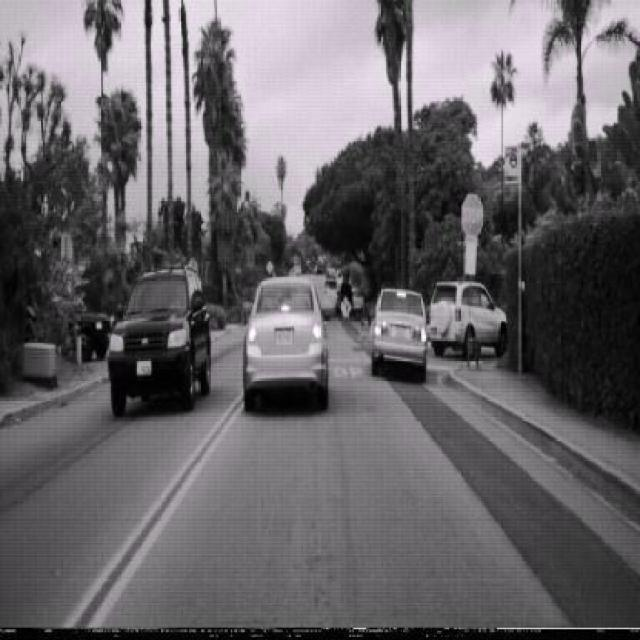stop: (462, 192, 484, 238)
